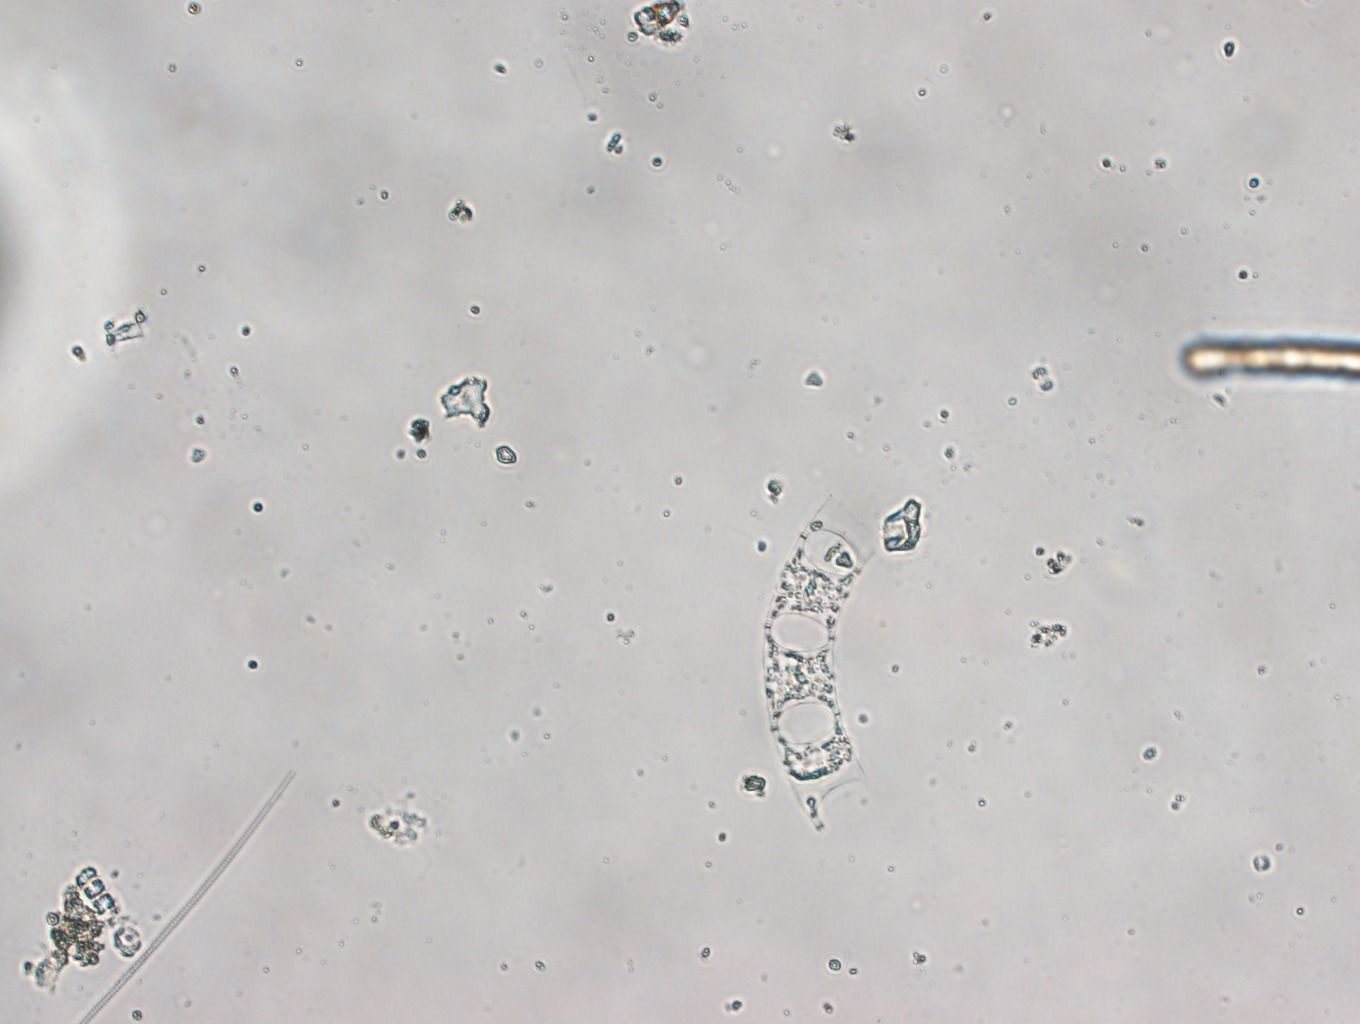eucampia: (761, 495, 875, 835)
